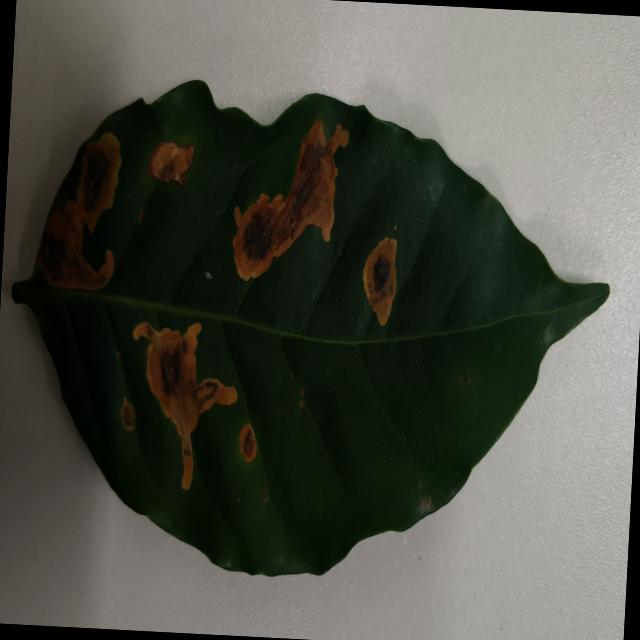KaratDaunKopi: (233, 120, 349, 281), (133, 323, 237, 490), (37, 134, 121, 290), (363, 238, 397, 326), (148, 142, 194, 186), (239, 423, 257, 463), (121, 398, 135, 431), (137, 210, 145, 224), (299, 387, 305, 397), (299, 400, 304, 408)
